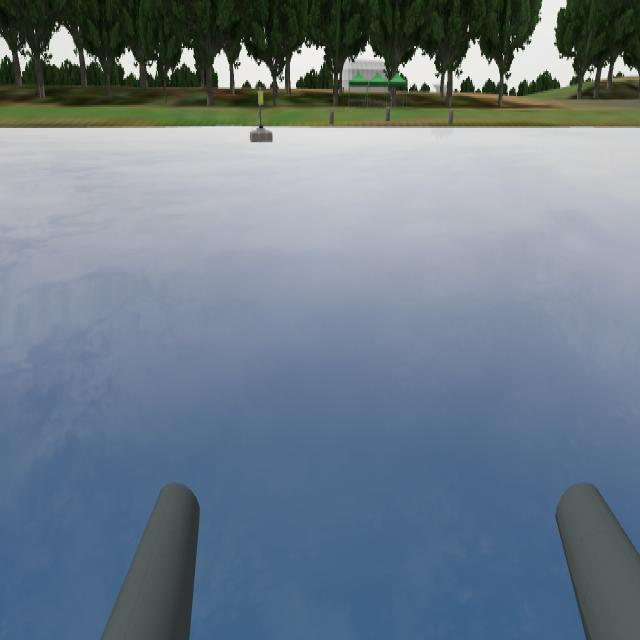yellow_pole: (253, 84, 270, 113)
